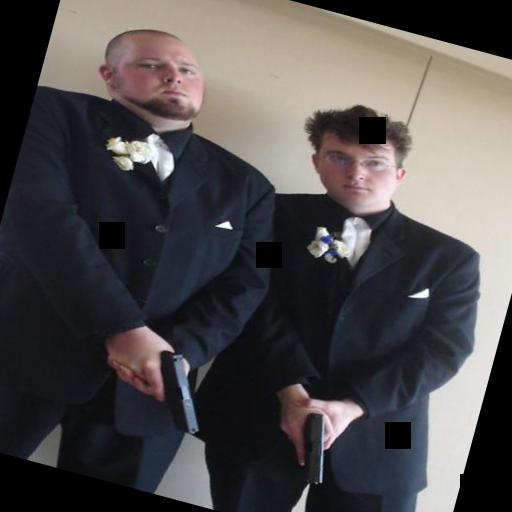Handgun: (130, 340, 223, 438), (276, 404, 346, 490)
